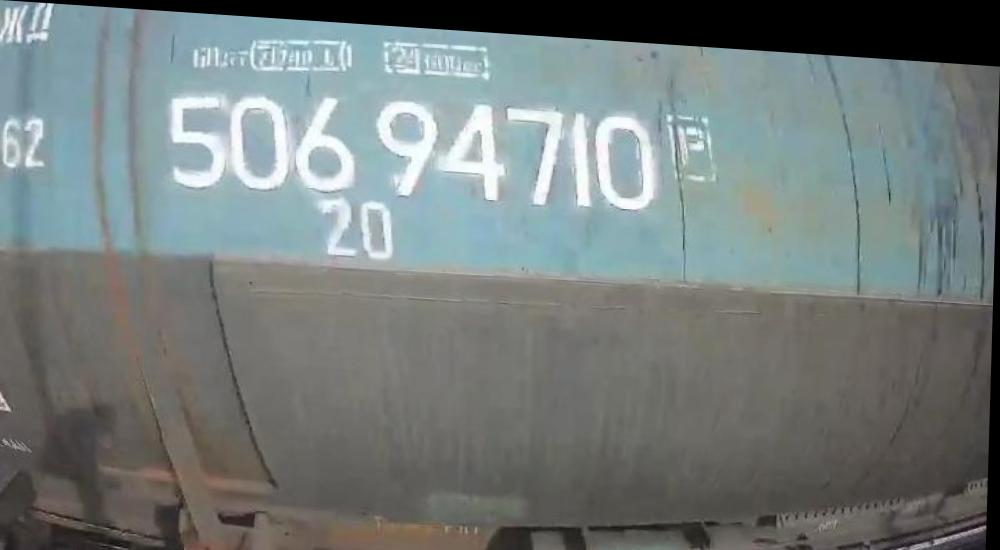Wagon-number: (155, 76, 665, 211)
